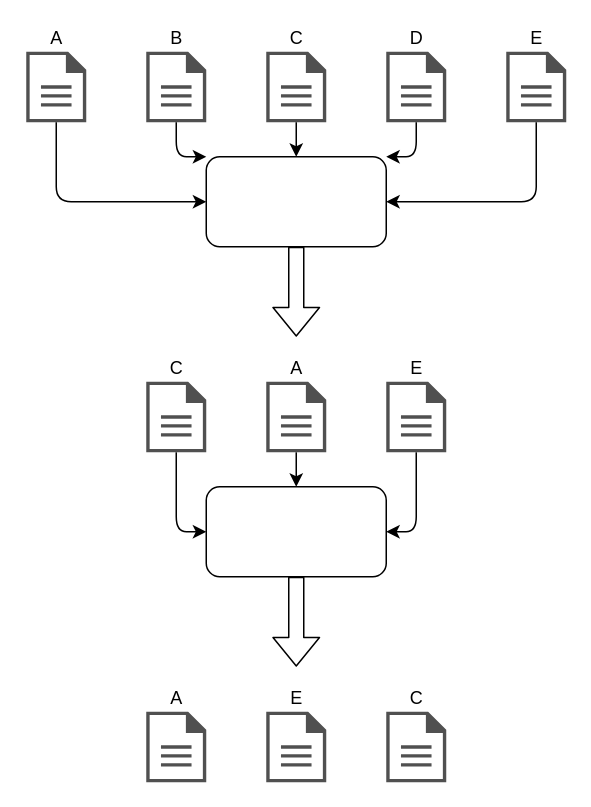
Some shapes in this 591 by 807 pixel diagram are drawn without their labels. Here are the shapes that lost their labels. From the top down, the centre of each, then its label:
[295,201]: Recommender 1
[295,531]: Recommender 2
